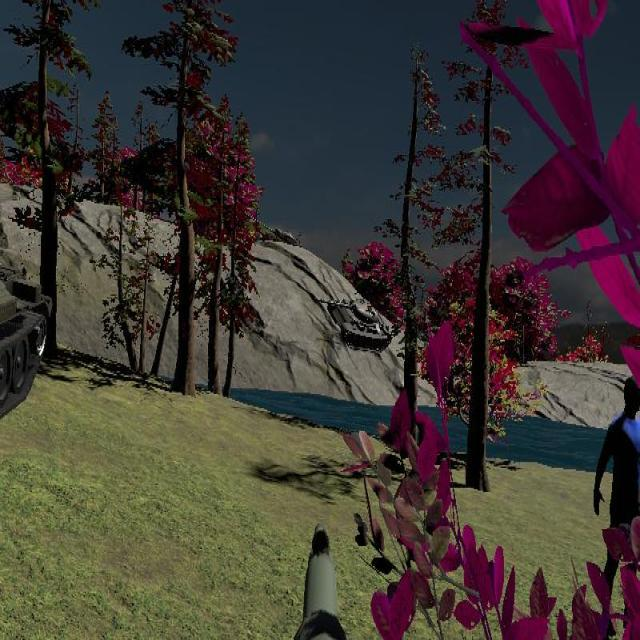Human: (593, 370, 640, 640)
Tank: (0, 211, 51, 438), (317, 295, 390, 350)
